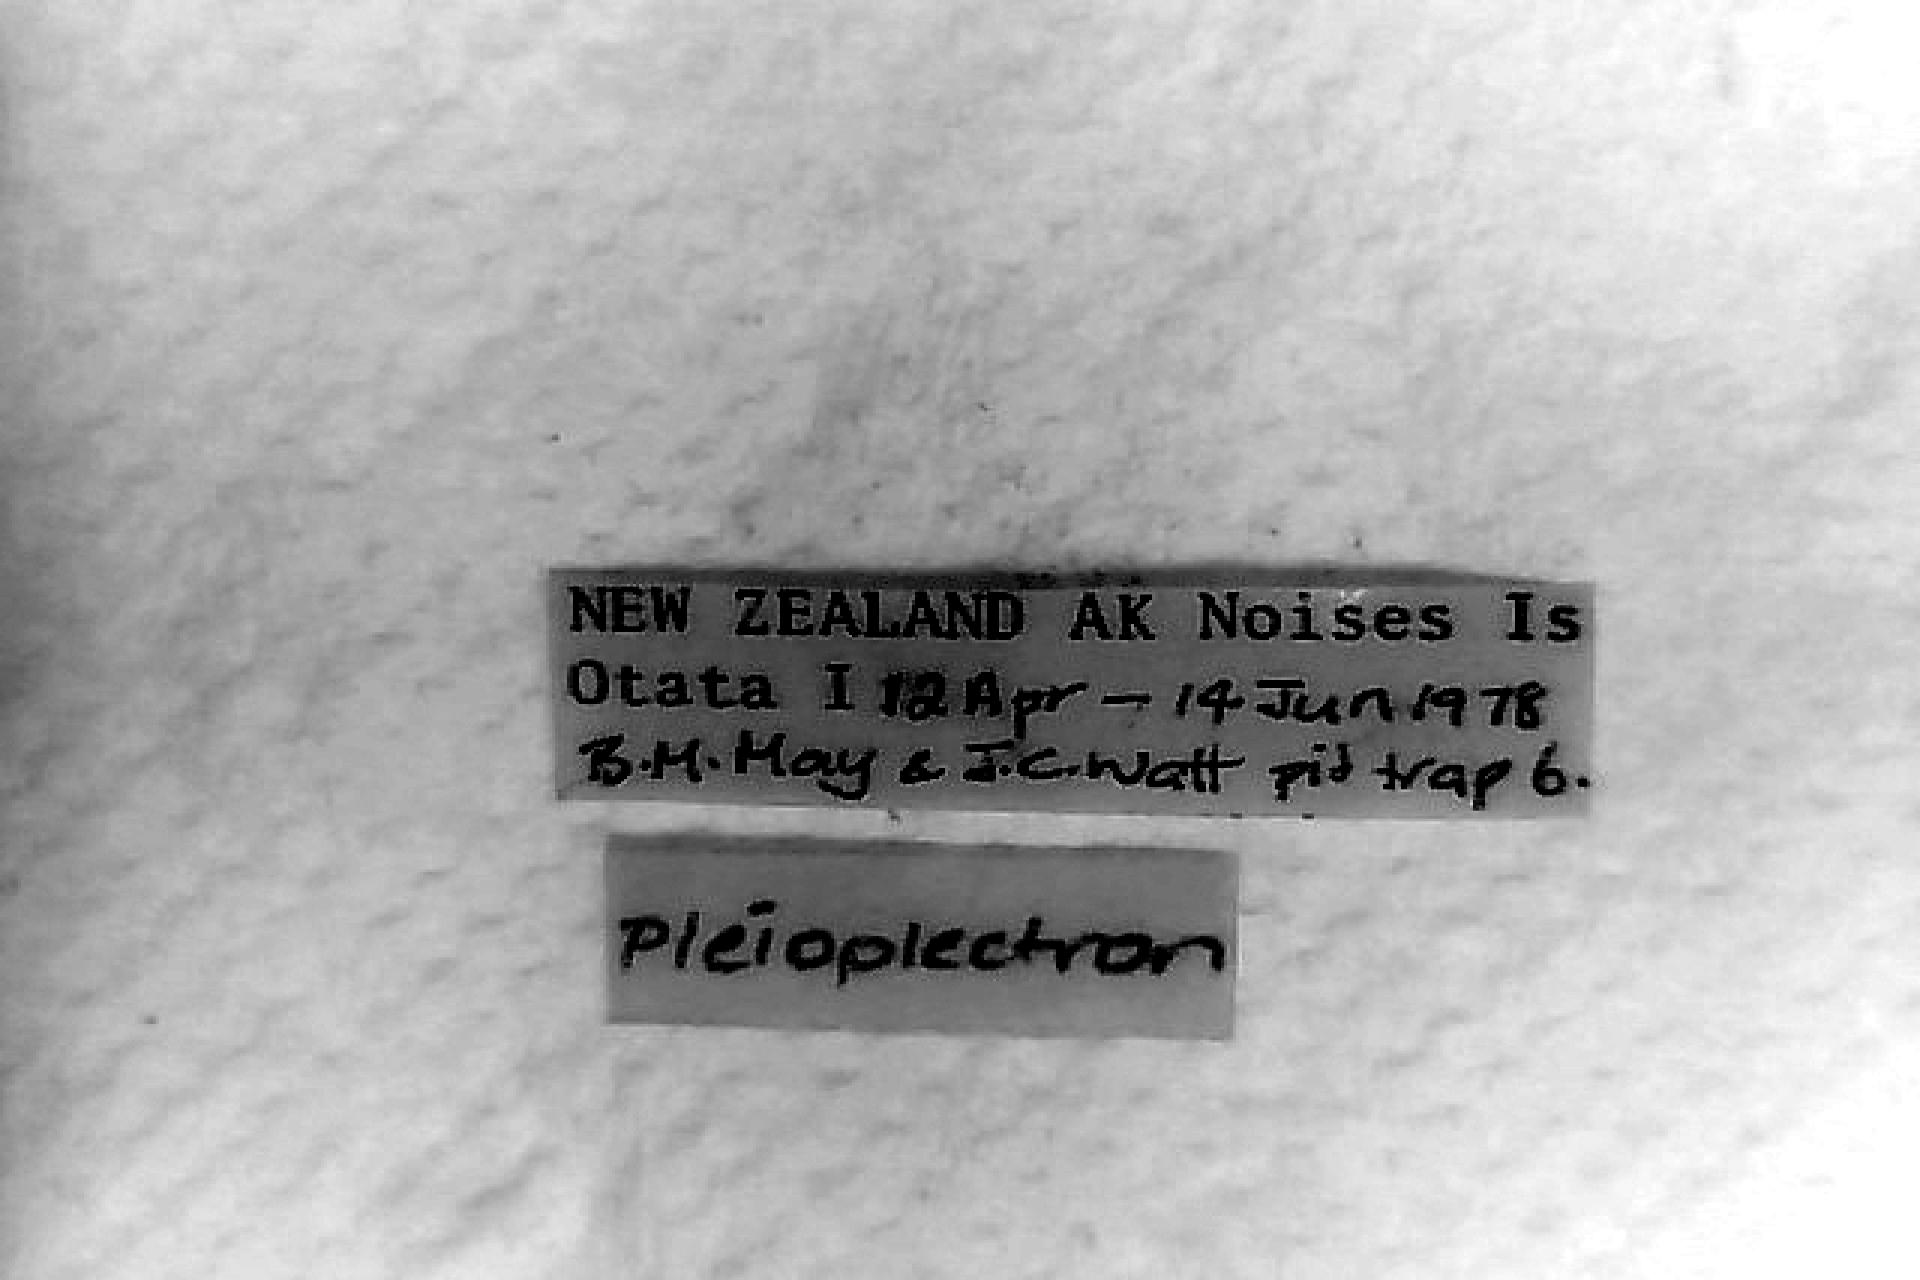hand_label: (608, 840, 1238, 1038)
mixed_label: (551, 573, 1594, 817)
